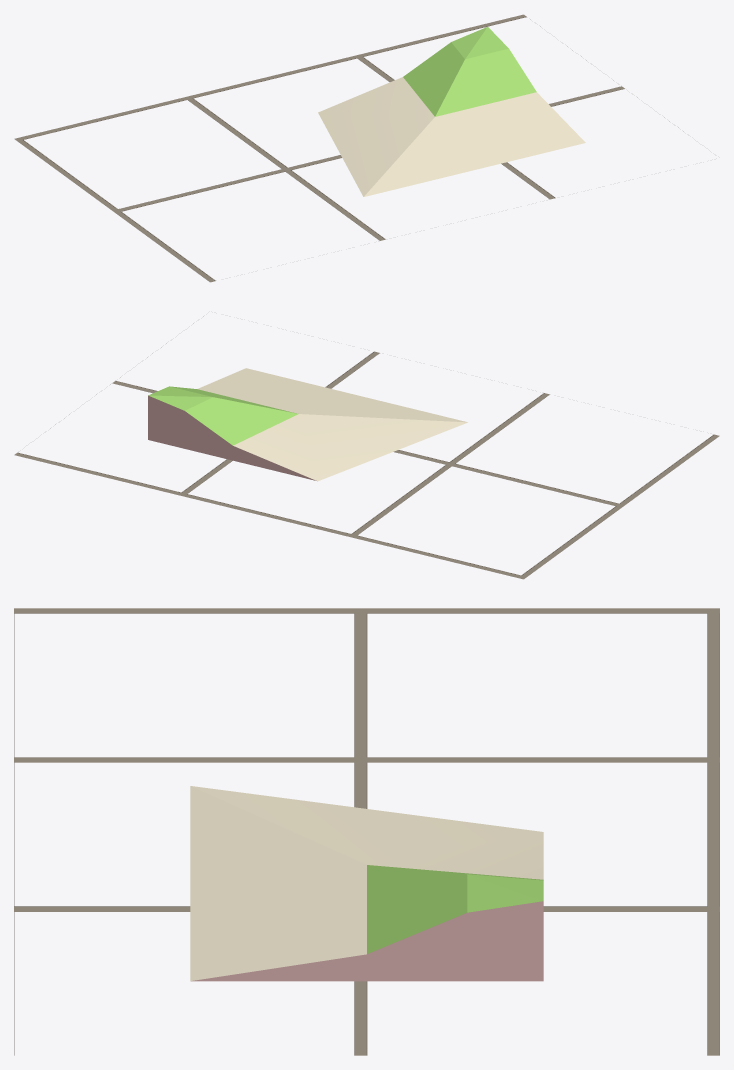
File: Path_Terrain_Y_Curve_Inner_1x1.glb
3 renders of one model, top to bottom at view 1: azimuth 30°, elevation 25°; view 2: azimuth 150°, elevation 25°; view 3: azimuth 270°, elevation 25°, orthographic. The views are drawn at different scales.
Visible parts, largest first — view 1: Path_Terrain_Y_Curve_Inner_1x1, Floor; view 2: Path_Terrain_Y_Curve_Inner_1x1, Floor; view 3: Path_Terrain_Y_Curve_Inner_1x1, Floor.
Part boxes in pixels (x1,y1,x2,y2): Path_Terrain_Y_Curve_Inner_1x1: (318, 26, 585, 196); Floor: (14, 14, 683, 282); Path_Terrain_Y_Curve_Inner_1x1: (148, 368, 467, 481); Floor: (14, 316, 719, 579); Path_Terrain_Y_Curve_Inner_1x1: (190, 786, 543, 981); Floor: (14, 608, 719, 1055).
Bounding box in the file's own units: 300 × 25 × 200.
Materials: 5 (1 with a texture image).
